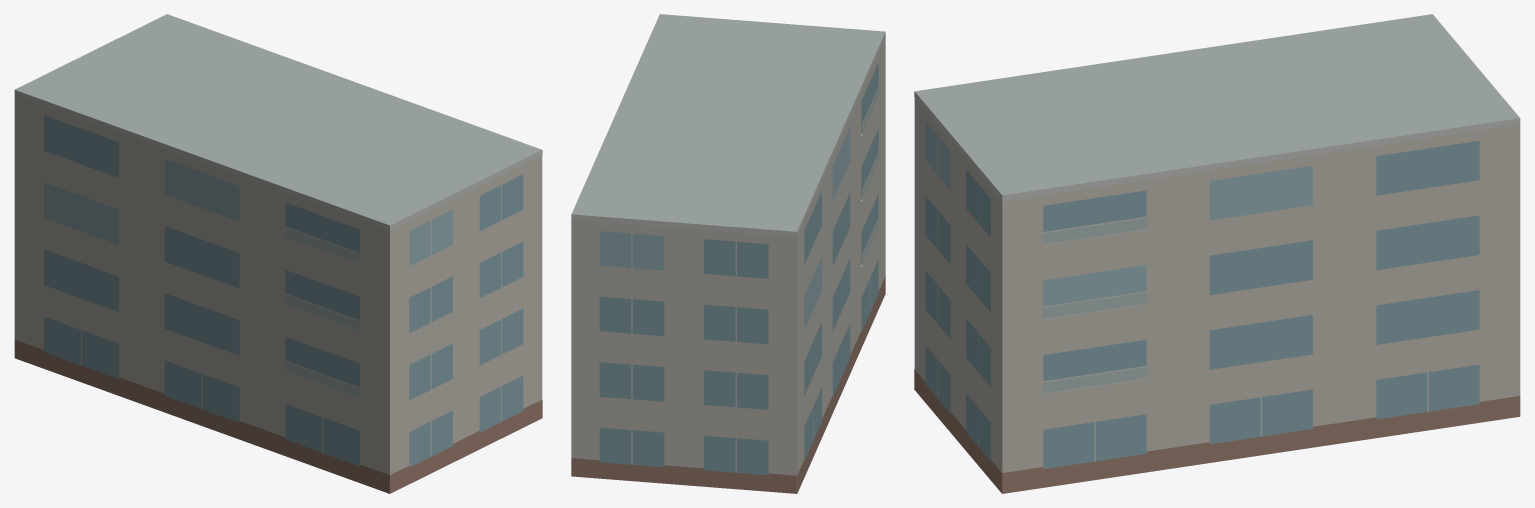
Rendered from survey-upis-32706912.glb.
3 views of the same model, side by side, from view 1: azimuth 30°, elevation 25°; view 2: azimuth 150°, elevation 25°; view 3: azimuth 270°, elevation 25° (orthographic). The views are drawn at different scales.
Parts seen in each view (by area): view 1: survey-upis-32706912.tmp; view 2: survey-upis-32706912.tmp; view 3: survey-upis-32706912.tmp.
Boxes of the visible parts, bbox=[...] form: survey-upis-32706912.tmp: bbox=[14, 14, 542, 493]; survey-upis-32706912.tmp: bbox=[571, 14, 885, 493]; survey-upis-32706912.tmp: bbox=[914, 14, 1520, 493].
Bounding box in the file's own units: 15.26 × 11.7 × 21.53.
